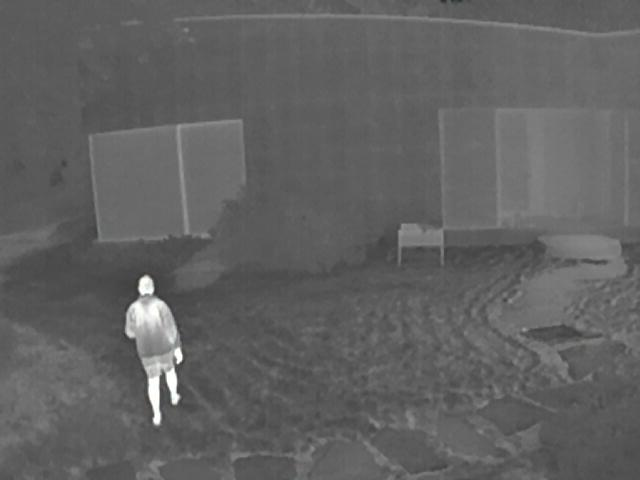person: (125, 274, 184, 428)
